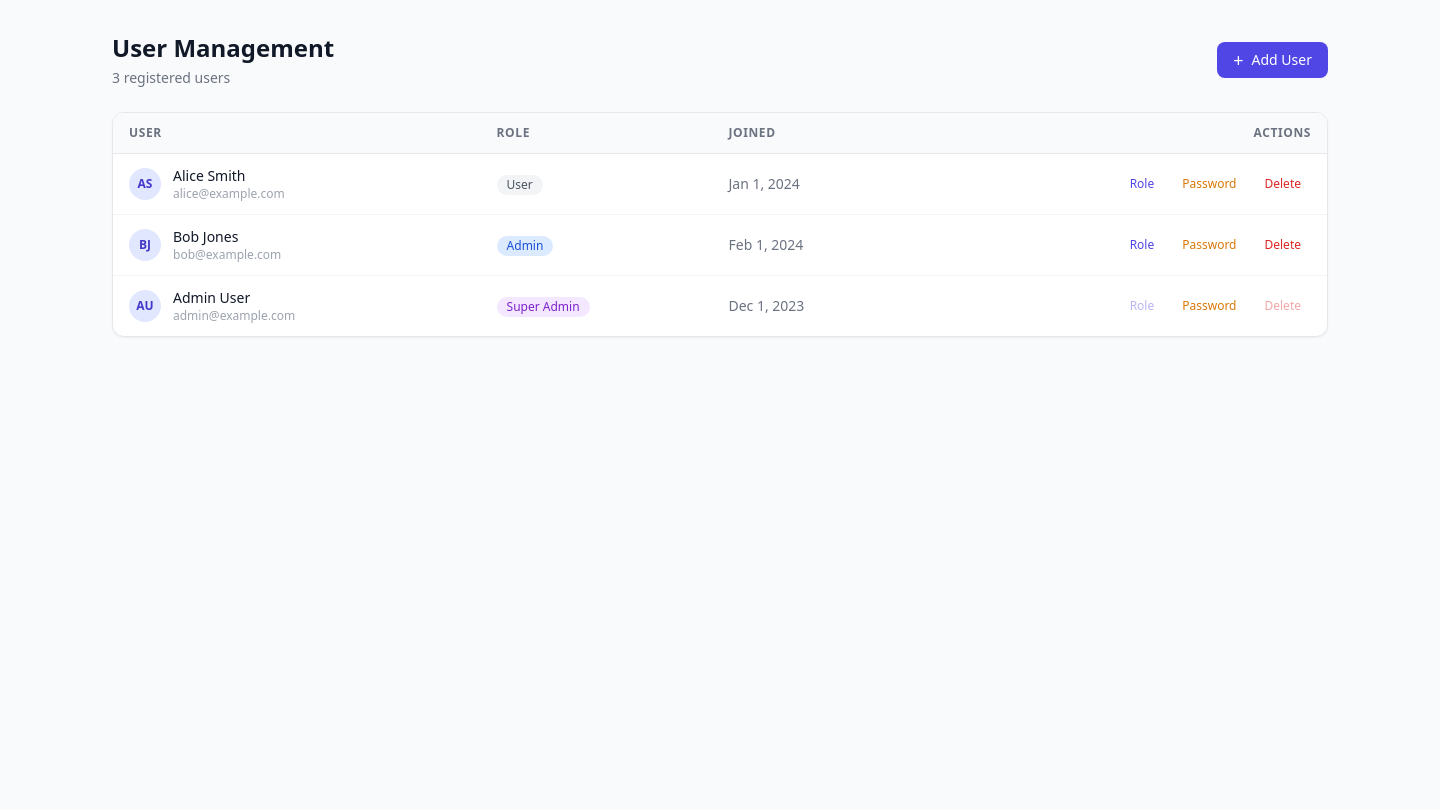
Admin — ChangePasswordModal › opens ChangePasswordModal when Password button is clicked
Click the button "Password" in the row of "Alice Smith" at (1209, 184), box top-left (1172, 172), bottom-right (1246, 196)
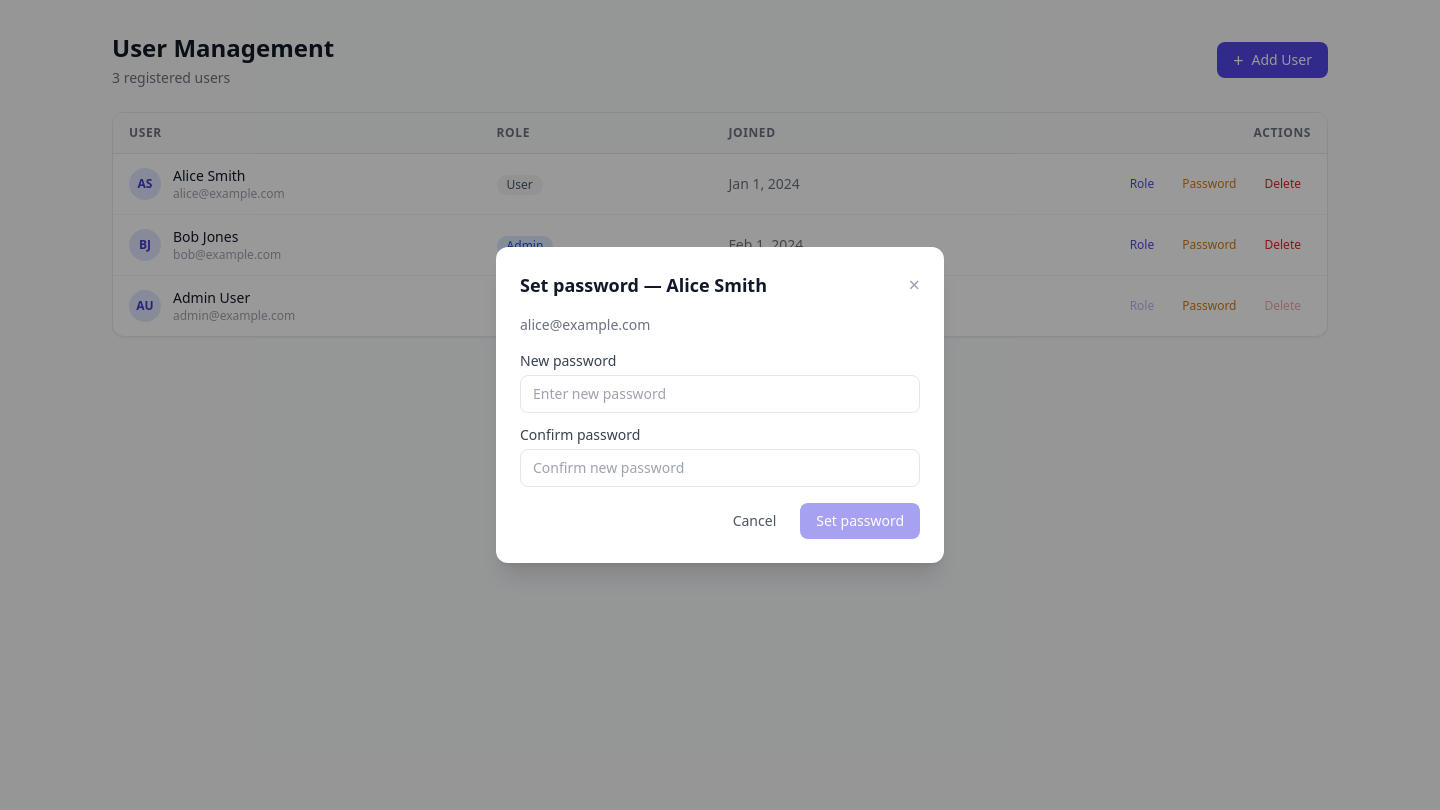
Now the heading "Set password — Alice Smith" is shown, box top-left (520, 271), bottom-right (767, 299)
